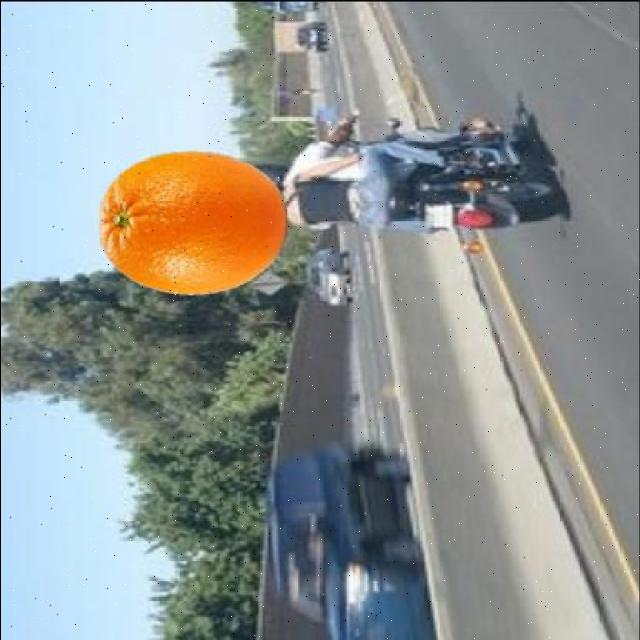Orange: (99, 150, 288, 296)
